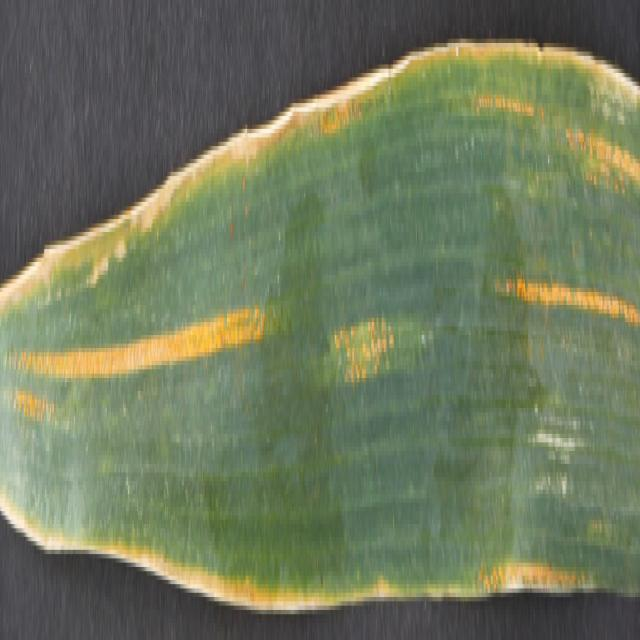leaf rust: (1, 241, 288, 468), (474, 60, 640, 395), (326, 275, 406, 417)
